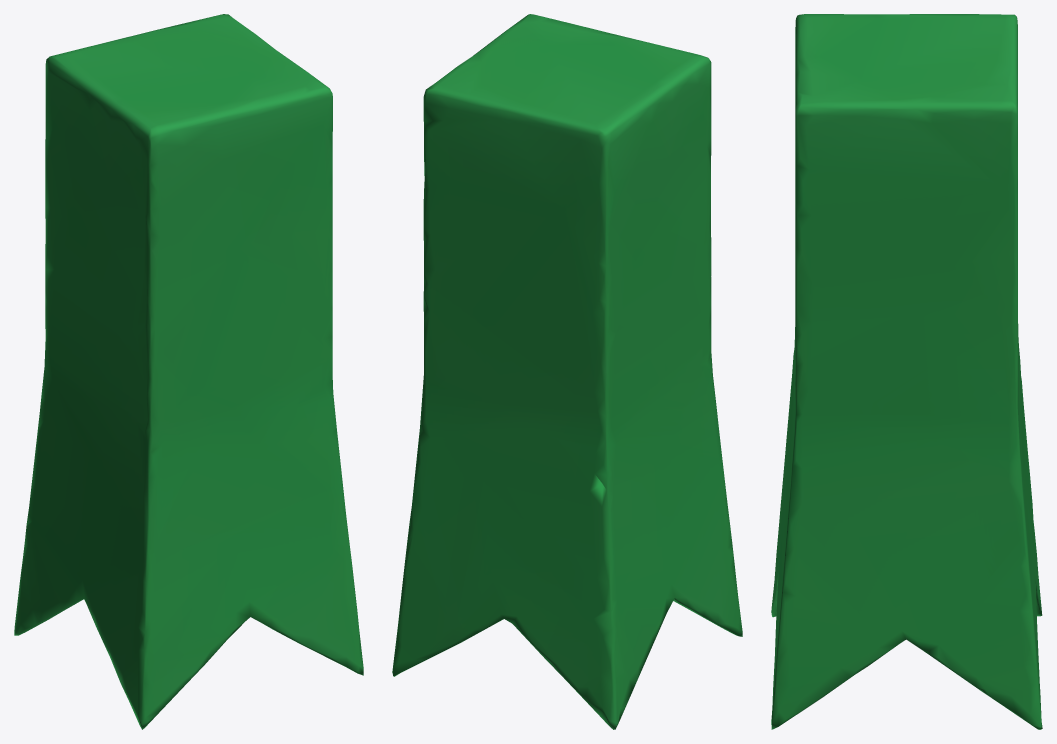
File: gen3d-ribbon-lod0.glb
The picture shows the model from 3 angles, left to right: view 1: azimuth 30°, elevation 25°; view 2: azimuth 150°, elevation 25°; view 3: azimuth 270°, elevation 25°; orthographic projection. The views are drawn at different scales.
Visible parts, largest first — view 1: part_0; view 2: part_0; view 3: part_0.
Part boxes in pixels (x1,y1,x2,y2): part_0: (14,14,363,729); part_0: (392,14,742,729); part_0: (771,14,1042,729).
Size of the model in its own units: 0.3991 by 1 by 0.3996.
